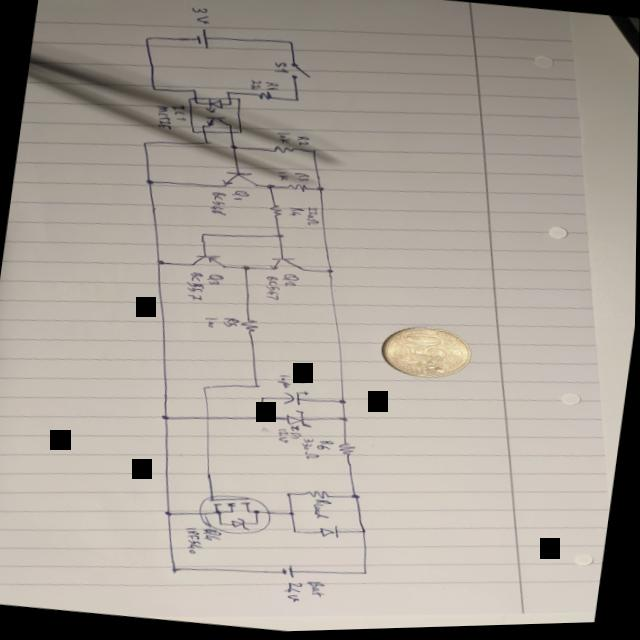capacitor: (281, 389, 311, 409)
crossover: (204, 416, 213, 423)
diode: (283, 410, 314, 429), (318, 524, 342, 541), (230, 517, 253, 533)
junction: (160, 413, 174, 422), (274, 233, 287, 241), (259, 414, 272, 422), (240, 265, 253, 272), (170, 567, 183, 574), (199, 385, 212, 392), (351, 494, 362, 502), (144, 178, 155, 186), (164, 510, 175, 518), (339, 417, 351, 424), (325, 269, 336, 276), (338, 400, 349, 407), (156, 259, 167, 266), (265, 185, 276, 192), (359, 529, 370, 536), (361, 571, 372, 578), (199, 232, 210, 239), (142, 35, 153, 42), (316, 187, 326, 194), (288, 511, 298, 518), (285, 41, 296, 47), (228, 145, 239, 151), (253, 384, 262, 391), (292, 529, 301, 536), (258, 396, 268, 402), (140, 141, 150, 147), (309, 150, 318, 156), (285, 493, 294, 499), (293, 98, 301, 104), (190, 89, 198, 94), (150, 87, 158, 92), (224, 91, 232, 96), (203, 141, 211, 146), (254, 522, 262, 527), (215, 511, 223, 516), (218, 523, 225, 528), (254, 510, 261, 515)
resistor: (270, 145, 299, 157), (306, 490, 333, 502), (337, 443, 358, 458), (242, 319, 260, 334), (267, 204, 285, 219), (285, 183, 309, 194), (258, 91, 273, 102)
source: (192, 29, 211, 49), (282, 564, 298, 581)
switch: (287, 64, 312, 84)
text: (183, 271, 204, 302), (299, 437, 324, 463), (183, 527, 205, 556), (207, 191, 230, 218), (283, 581, 307, 606), (261, 276, 283, 302), (312, 499, 335, 522), (189, 6, 213, 28), (152, 105, 174, 129), (307, 581, 329, 600), (203, 527, 226, 544), (304, 207, 321, 227), (275, 373, 294, 390), (229, 189, 252, 203), (281, 274, 301, 290), (205, 273, 227, 287), (172, 104, 187, 123), (272, 61, 291, 76), (316, 440, 335, 454), (288, 425, 304, 441), (288, 206, 305, 221), (262, 80, 281, 93), (290, 374, 309, 387), (276, 133, 293, 147), (294, 136, 311, 150), (223, 316, 240, 330), (292, 173, 311, 185), (276, 428, 290, 444), (247, 79, 263, 92), (206, 317, 219, 331), (276, 171, 291, 183)
transistor: (208, 494, 263, 521), (220, 169, 260, 192), (267, 255, 306, 275), (191, 253, 228, 270)
